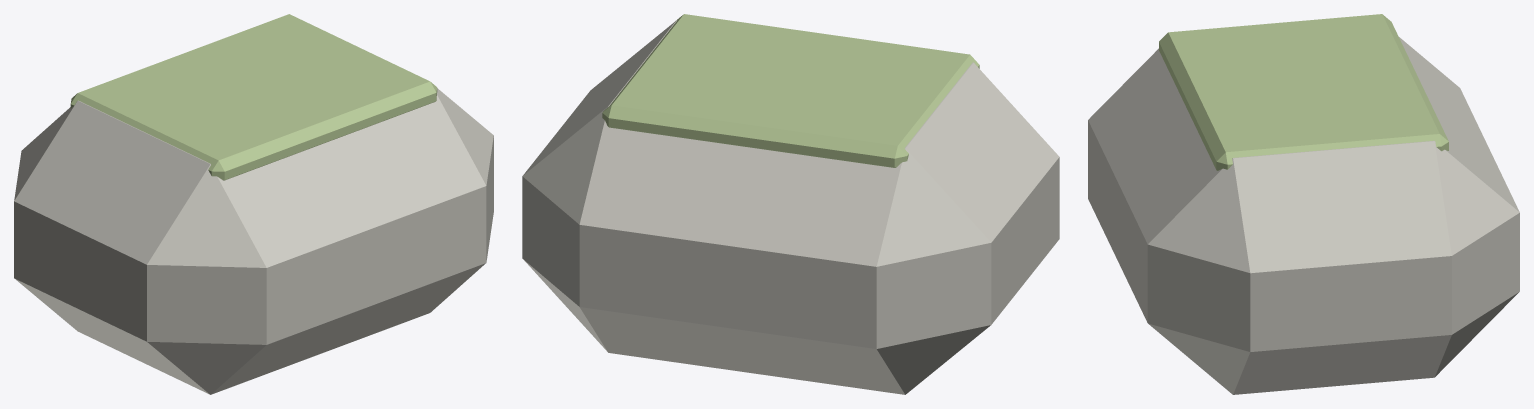
Rendered from moss-stone.glb.
3 renders of one model, left to right at view 1: azimuth 30°, elevation 25°; view 2: azimuth 150°, elevation 25°; view 3: azimuth 270°, elevation 25°, orthographic. The views are drawn at different scales.
Visible parts, largest first — view 1: moss-stone; view 2: moss-stone; view 3: moss-stone.
Boxes of the visible parts, <box> form: moss-stone: <box>14,14,493,394</box>; moss-stone: <box>522,14,1059,394</box>; moss-stone: <box>1088,14,1519,394</box>.
Size of the model in its own units: 1.07 by 0.5601 by 0.9098.
